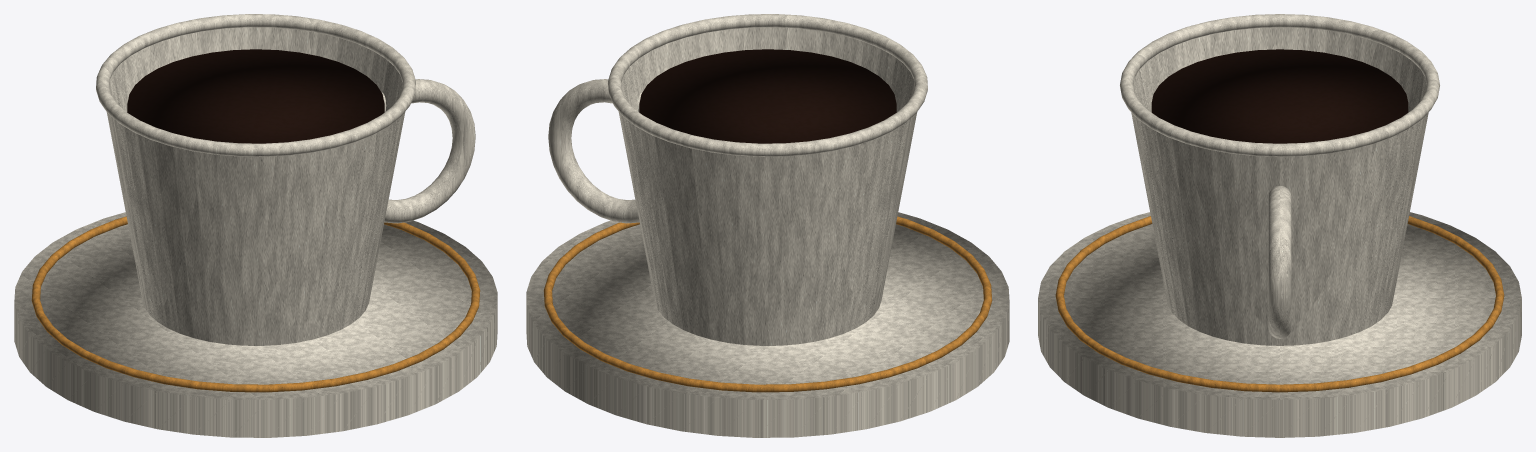
File: cafe-tinto-colombiano.glb
3 renders of one model, left to right at view 1: azimuth 30°, elevation 25°; view 2: azimuth 150°, elevation 25°; view 3: azimuth 270°, elevation 25°, orthographic.
Visible parts, largest first — view 1: porcelain, coffee, gold; view 2: porcelain, coffee, gold; view 3: porcelain, coffee, gold.
Boxes of the visible parts, box(x1,y1,x2,y2) form: porcelain: box(14, 14, 497, 437); coffee: box(127, 49, 384, 143); gold: box(31, 216, 480, 392); porcelain: box(526, 14, 1009, 437); coffee: box(639, 49, 896, 143); gold: box(543, 216, 992, 392); porcelain: box(1038, 14, 1521, 437); coffee: box(1151, 49, 1408, 143); gold: box(1055, 216, 1504, 392).
Size of the model in its own units: 0.296 by 0.1695 by 0.29.
3 materials, 3 textured.
